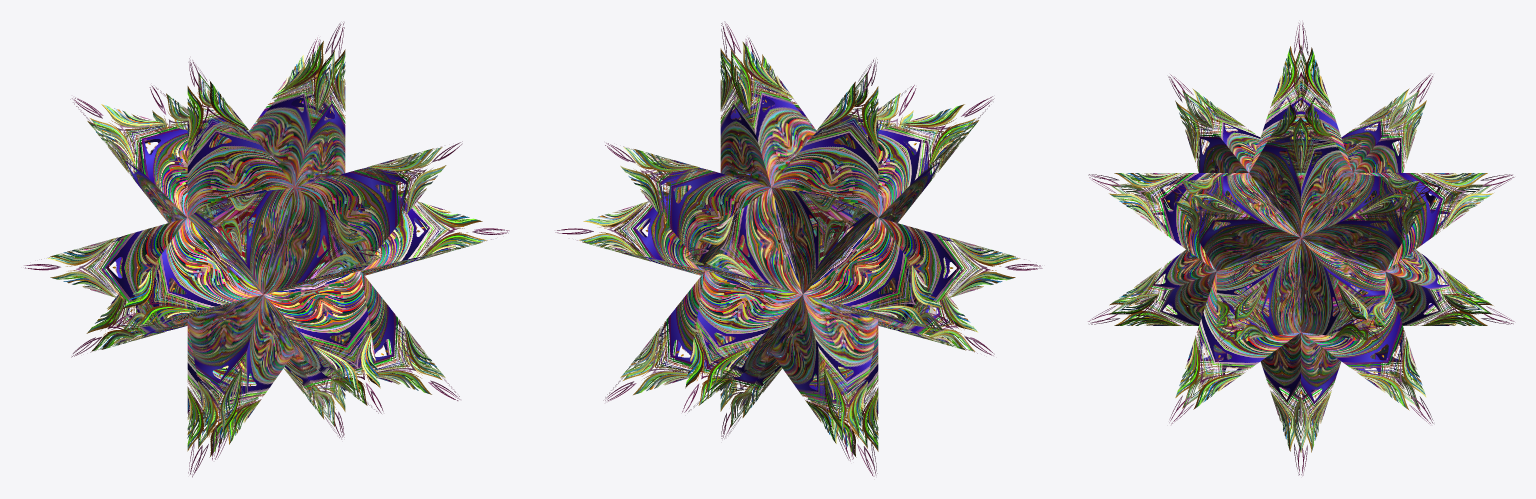
Rendered from GreatStellatedDodecahedron13.obj.
The picture shows the model from 3 angles, left to right: view 1: azimuth 30°, elevation 25°; view 2: azimuth 150°, elevation 25°; view 3: azimuth 270°, elevation 25°; orthographic projection. The views are drawn at different scales.
Size of the model in its own units: 1 by 1 by 1.
1 material, 1 textured.
